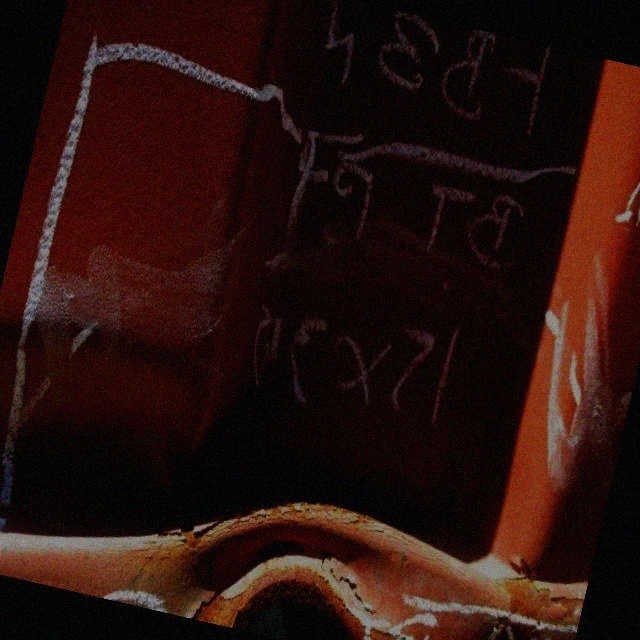Dent: (1, 296, 582, 624)
